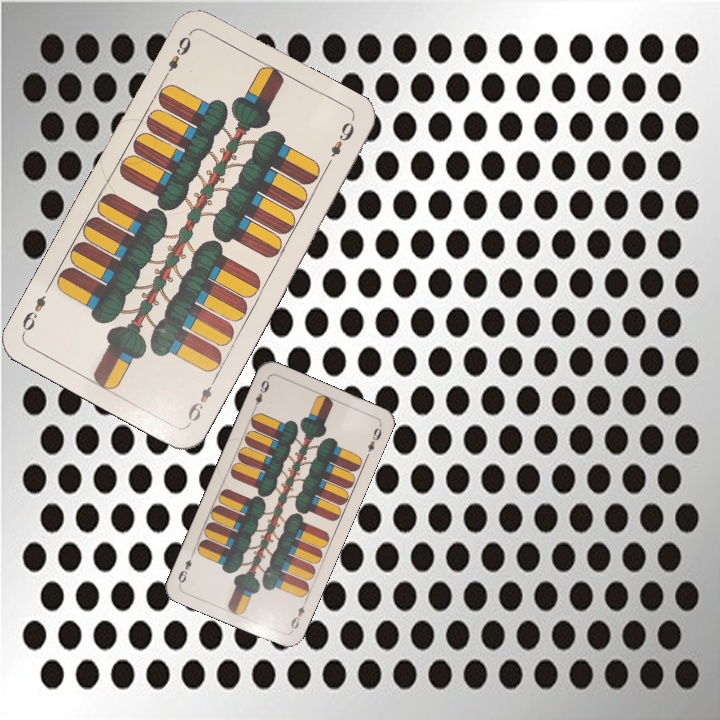E9: (159, 29, 195, 83), (184, 373, 219, 427), (249, 374, 272, 413), (287, 596, 310, 634)
